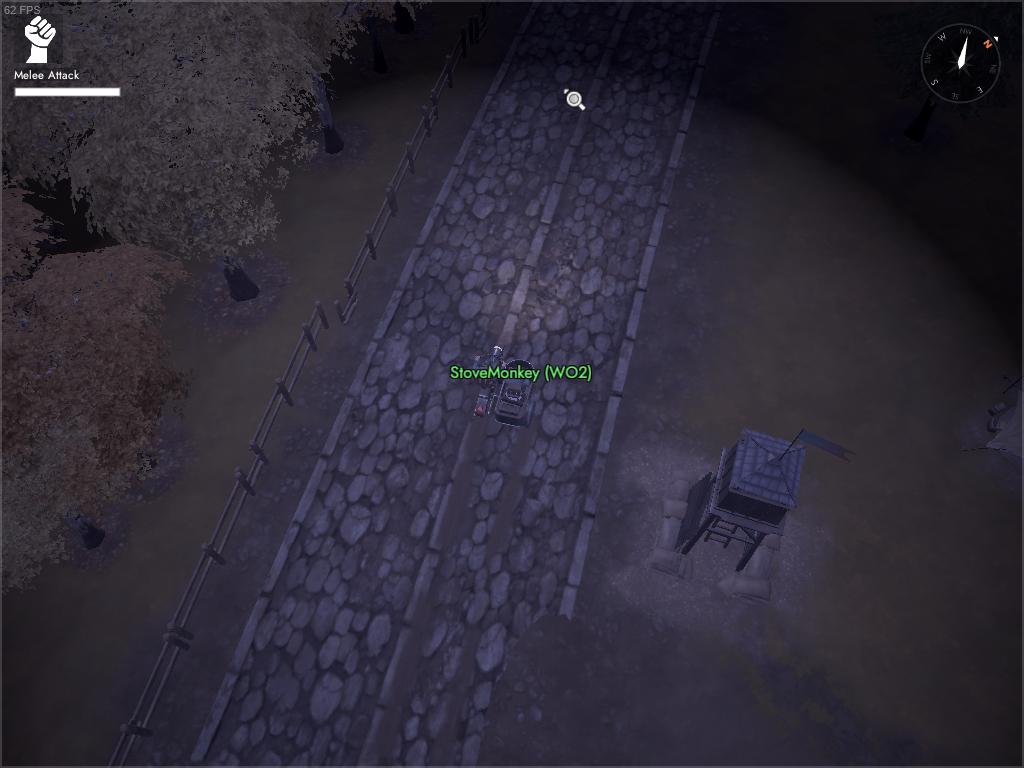foxhole: (957, 360, 1024, 472)
motorcycle: (465, 342, 540, 433)
player: (498, 365, 535, 404), (469, 351, 499, 390)
watchtower: (643, 415, 859, 611)
